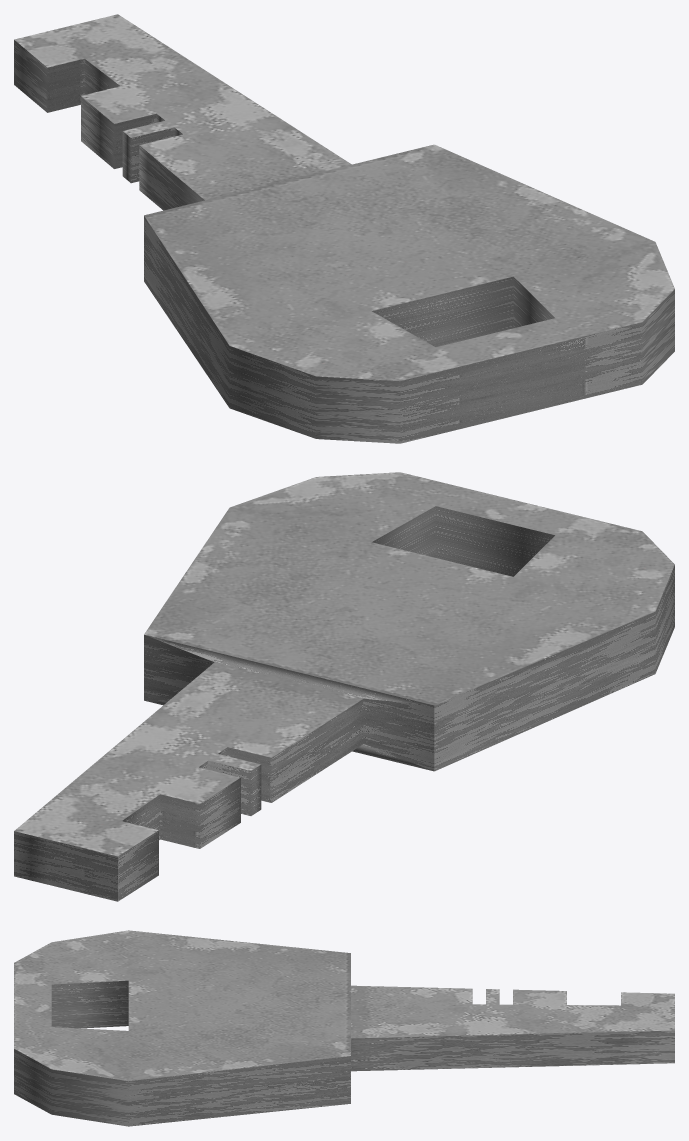
Rendered from key (1).fbx.
3 renders of one model, top to bottom at view 1: azimuth 30°, elevation 25°; view 2: azimuth 150°, elevation 25°; view 3: azimuth 270°, elevation 25°, orthographic. The views are drawn at different scales.
Visible parts, largest first — view 1: Cube; view 2: Cube; view 3: Cube.
Boxes of the visible parts, x1,y1,x2,y2 form: Cube: (14, 14, 674, 443); Cube: (14, 472, 674, 901); Cube: (14, 930, 674, 1126).
Size of the model in its own units: 7.84 by 1.16 by 14.52.
1 material, 1 textured.
